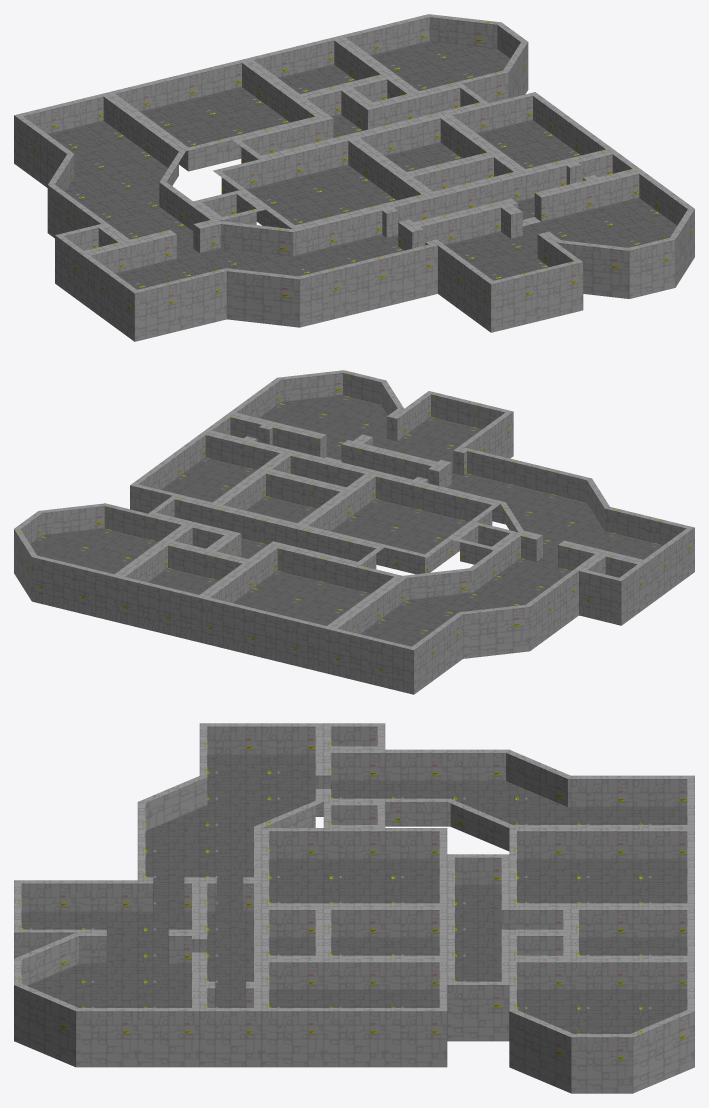
Rendered from arenaVB.fbx.
3 renders of one model, top to bottom at view 1: azimuth 30°, elevation 25°; view 2: azimuth 150°, elevation 25°; view 3: azimuth 270°, elevation 25°, orthographic. The views are drawn at different scales.
Visible parts, largest first — view 1: pPlane1; view 2: pPlane1; view 3: pPlane1.
Boxes of the visible parts, <box> form: pPlane1: <box>14,14,694,341</box>; pPlane1: <box>14,370,694,694</box>; pPlane1: <box>14,723,694,1093</box>.
Size of the model in its own units: 384 by 32 by 352.
2 materials, 2 textured.
